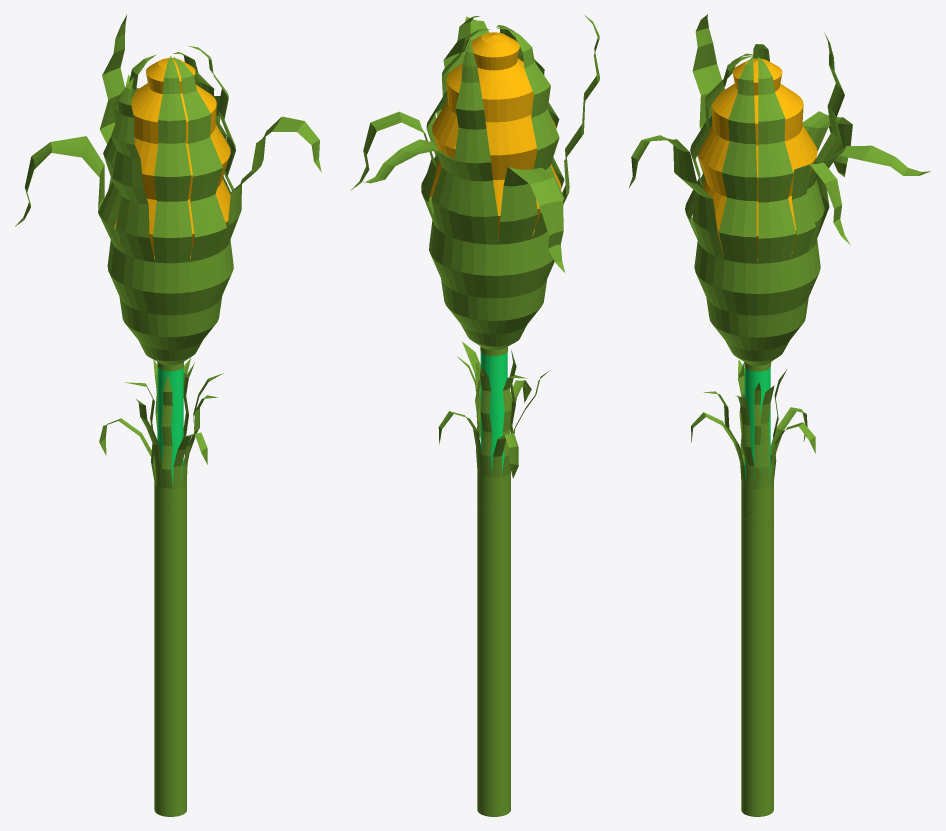
File: corn3.fbx
The picture shows the model from 3 angles, left to right: view 1: azimuth 30°, elevation 25°; view 2: azimuth 150°, elevation 25°; view 3: azimuth 270°, elevation 25°; orthographic projection. The views are drawn at different scales.
Visible parts, largest first — view 1: leafs, stock bottom, leafs.001, stock leaf, corn, stock, stock leaf.001; view 2: leafs, stock bottom, corn, leafs.001, stock leaf, stock, stock leaf.001; view 3: leafs, leafs.001, stock bottom, corn, stock leaf, stock leaf.001, stock.
Boxes of the visible parts, bbox=[...] form: leafs: bbox=[15, 15, 321, 371]; stock bottom: bbox=[154, 514, 186, 816]; leafs.001: bbox=[21, 17, 320, 370]; stock leaf: bbox=[99, 358, 222, 521]; corn: bbox=[114, 58, 230, 261]; stock: bbox=[157, 367, 183, 487]; stock leaf.001: bbox=[100, 358, 219, 521]; leafs: bbox=[350, 15, 599, 356]; stock bottom: bbox=[477, 505, 510, 816]; corn: bbox=[430, 32, 561, 240]; leafs.001: bbox=[352, 17, 599, 355]; stock leaf: bbox=[438, 341, 548, 511]; stock: bbox=[480, 352, 507, 475]; stock leaf.001: bbox=[439, 344, 545, 510]; leafs: bbox=[628, 14, 930, 371]; leafs.001: bbox=[630, 15, 927, 371]; stock bottom: bbox=[741, 515, 773, 816]; corn: bbox=[698, 58, 817, 261]; stock leaf: bbox=[691, 359, 815, 521]; stock leaf.001: bbox=[691, 363, 815, 521]; stock: bbox=[744, 367, 770, 485].
Bounding box in the file's own units: 72.75 × 262 × 93.05.
Materials: 7 (7 with a texture image).
